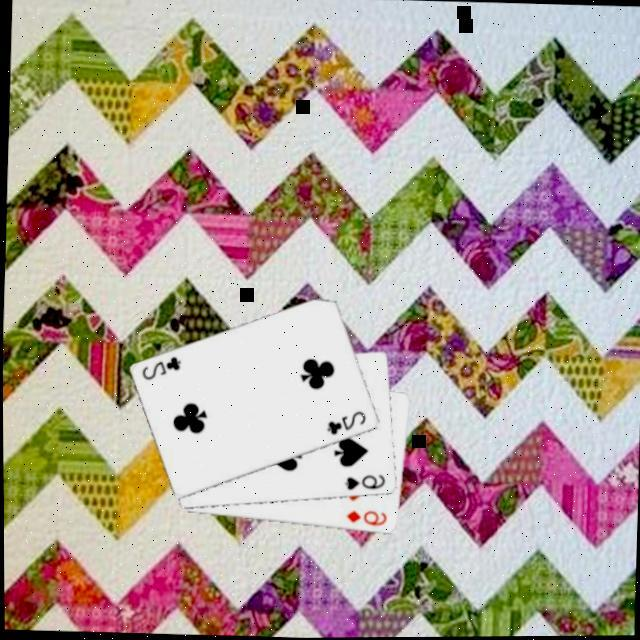2C: (321, 406, 366, 440), (135, 351, 181, 384)
6D: (339, 506, 386, 529)
6S: (338, 469, 385, 494)
